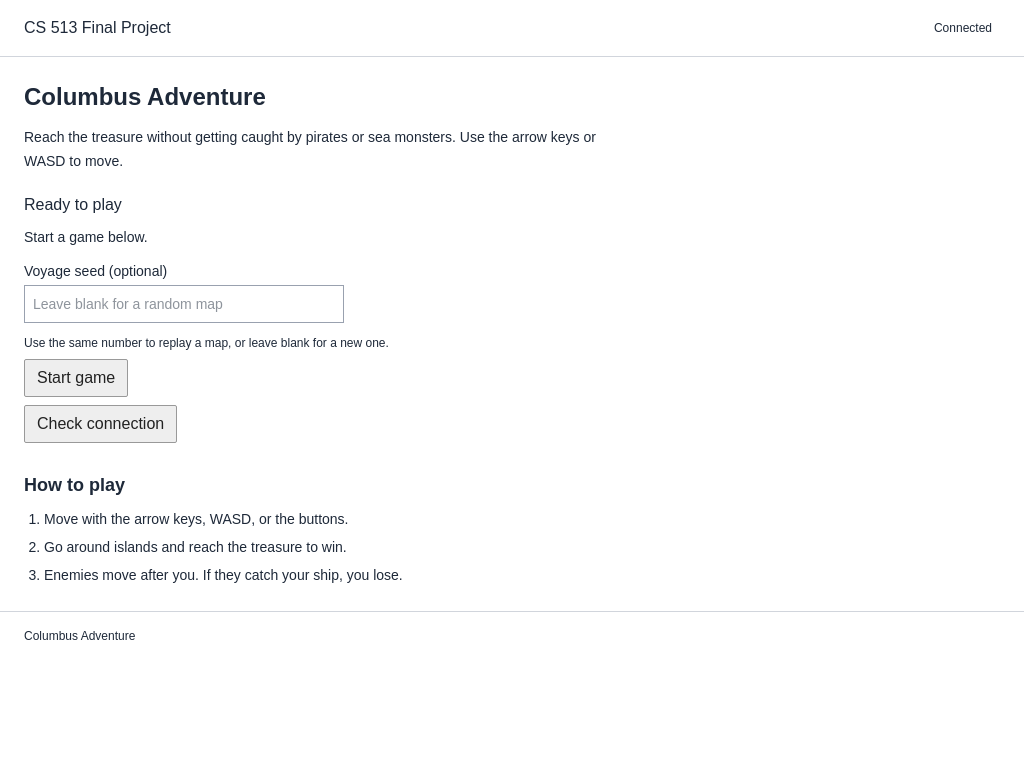
Test: sends an optional validated seed from the welcome form
The image size is (1024, 768).
Expected: the text "Connected" is shown, [934,21,992,35]
Type "-513" into the field labelled "Voyage seed (optional)" at (184,304), box [24,285,344,323]
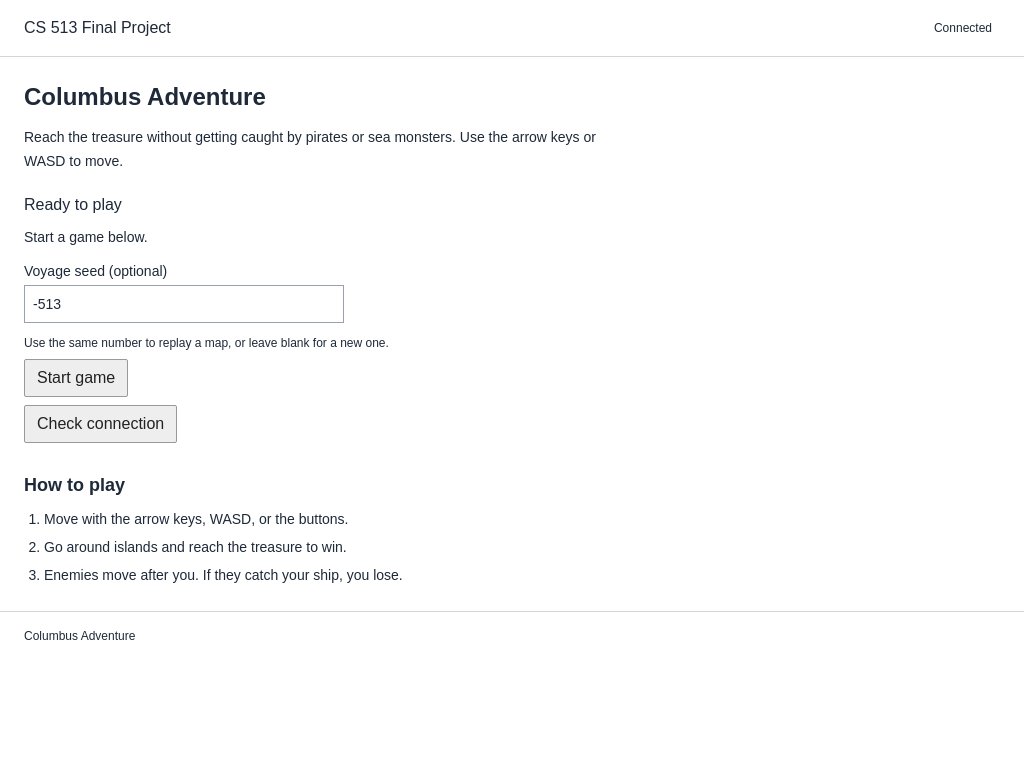
Click the button "Start game" at (76,378), box [24,359,128,397]
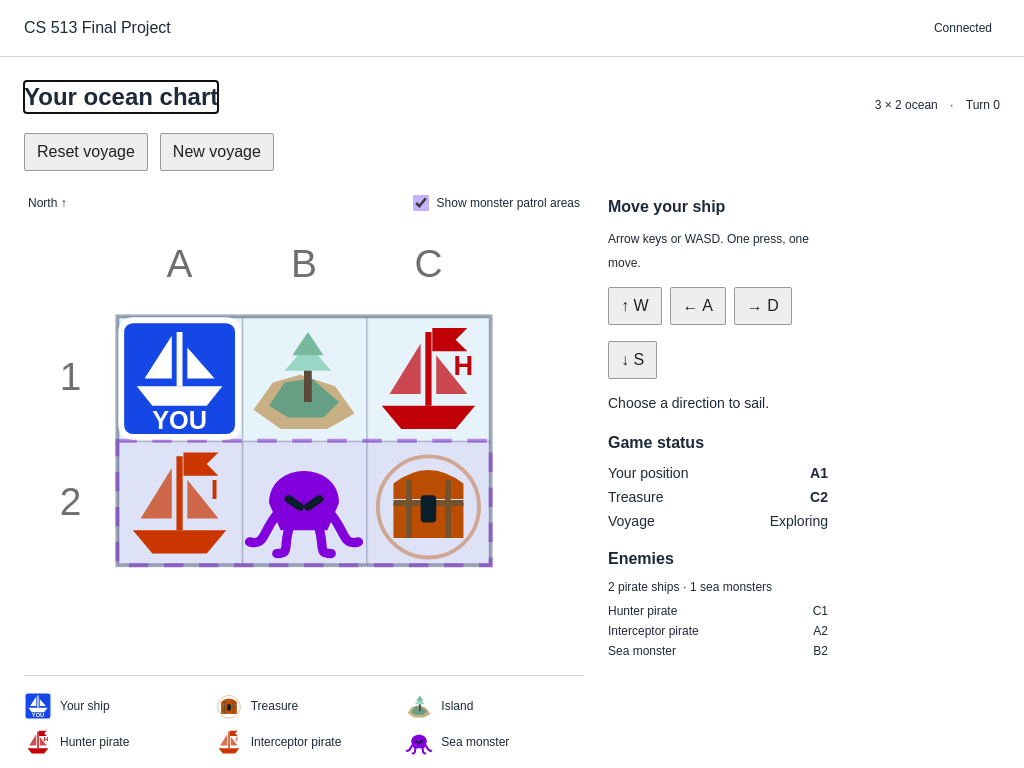
Expected: the heading "Your ocean chart" is shown, [24,81,218,113]
